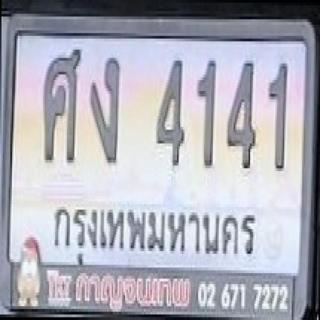A07: (85, 53, 129, 170)
A38: (32, 43, 85, 162)
N01: (191, 50, 225, 171), (265, 59, 299, 178)
N04: (150, 54, 193, 171), (224, 59, 262, 175)
P04: (43, 198, 262, 267)
